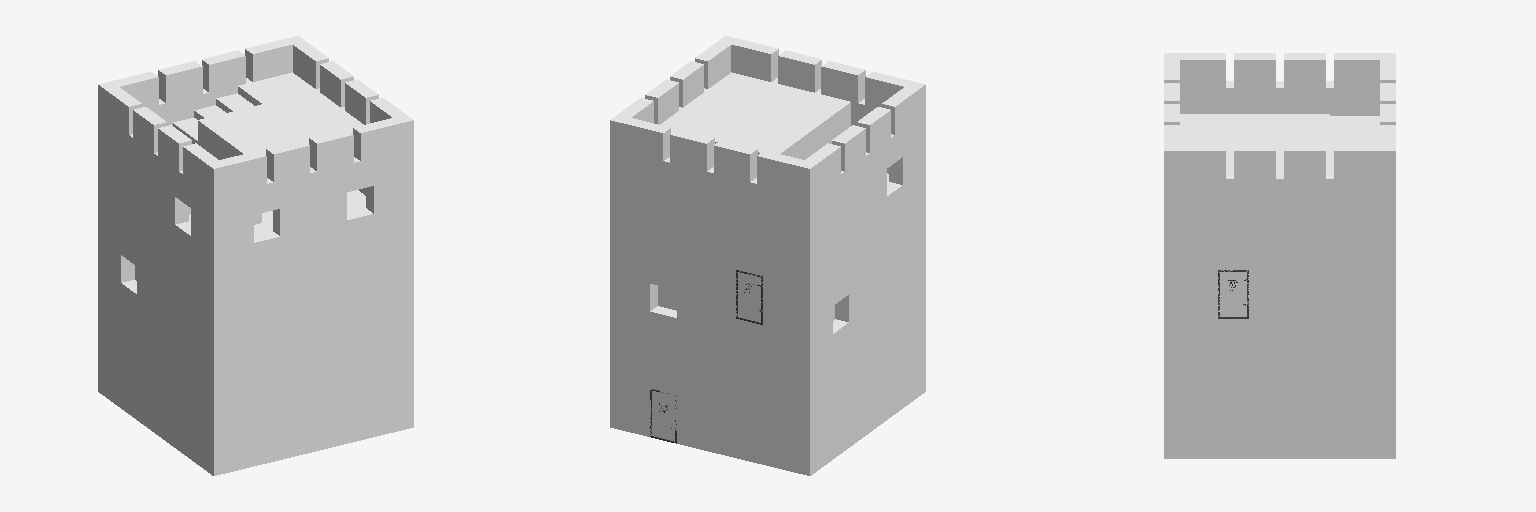
3 renders of one model, left to right at view 1: azimuth 30°, elevation 25°; view 2: azimuth 150°, elevation 25°; view 3: azimuth 270°, elevation 25°, orthographic.
Parts seen in each view (by area): view 1: mesh2_mesh2-geometry; view 2: mesh2_mesh2-geometry, mesh1_mesh1-geometry; view 3: mesh2_mesh2-geometry, mesh1_mesh1-geometry.
Part boxes in pixels (bbox=[...]): mesh2_mesh2-geometry: bbox=[98, 36, 413, 475]; mesh2_mesh2-geometry: bbox=[610, 36, 925, 475]; mesh1_mesh1-geometry: bbox=[736, 270, 762, 324]; mesh2_mesh2-geometry: bbox=[1164, 53, 1395, 458]; mesh1_mesh1-geometry: bbox=[1218, 270, 1248, 318].
Size of the model in its own units: 0.4908 by 0.7199 by 0.4908.
Materials: 8 (2 with a texture image).